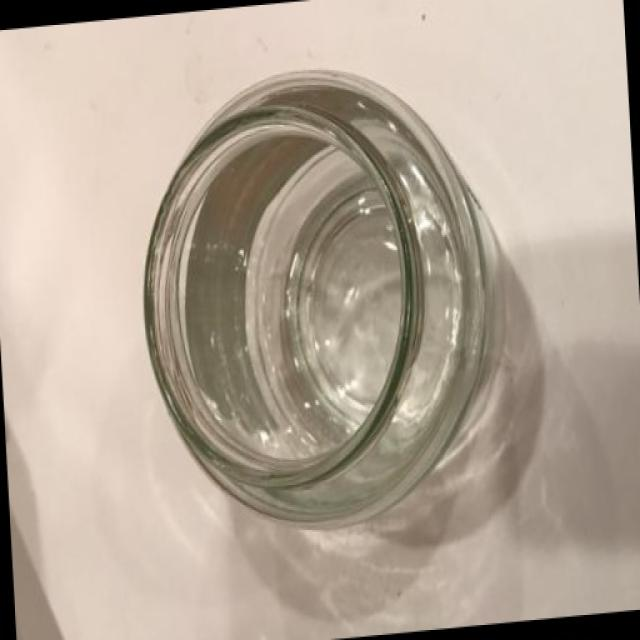vidrio: (101, 55, 564, 564)
